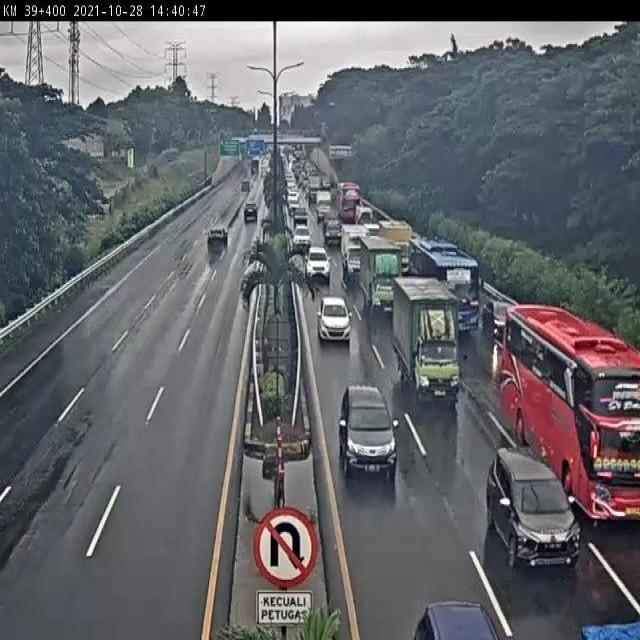bus-l-: (502, 303, 640, 525), (406, 239, 481, 337)
car: (485, 445, 583, 571), (337, 384, 399, 479), (482, 296, 518, 343), (317, 296, 352, 343), (305, 246, 332, 282)
mid truck: (205, 227, 229, 252)
truck-m-: (391, 273, 463, 403), (359, 234, 402, 318), (341, 222, 377, 286)
